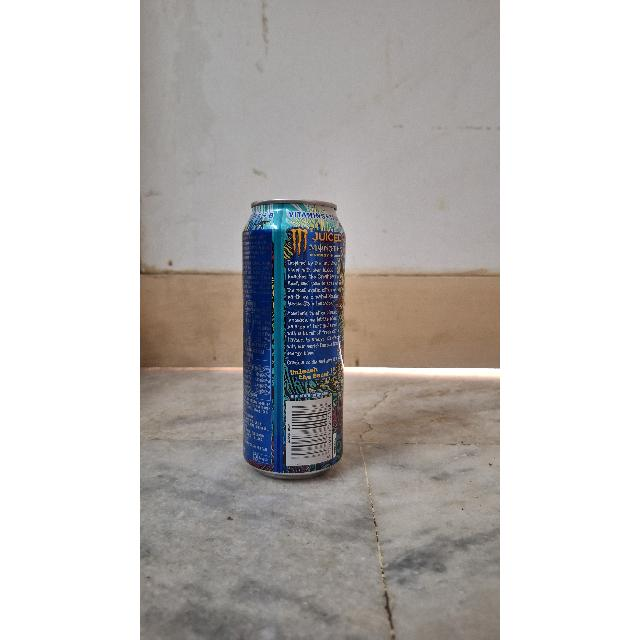Monster Aussie Lemonade: (236, 190, 352, 486)
